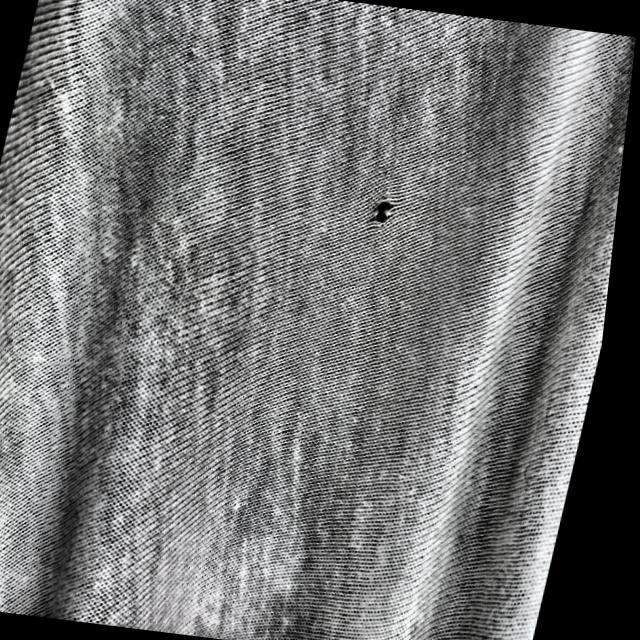Hole: (359, 182, 413, 240)
